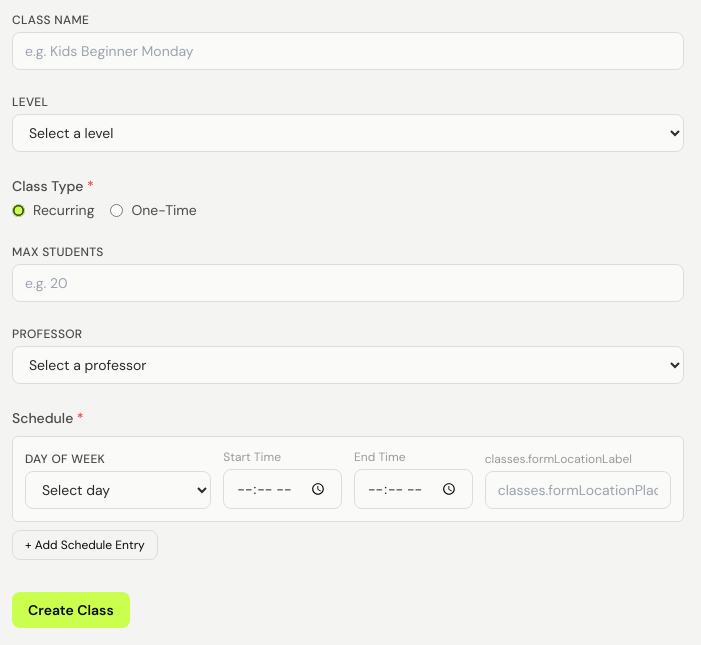
Test: ClassForm (create mode) › switches to date picker when type=ONE_TIME
Click the radio button labelled "One-Time".
click(117, 210)  # box [110,204,124,216]
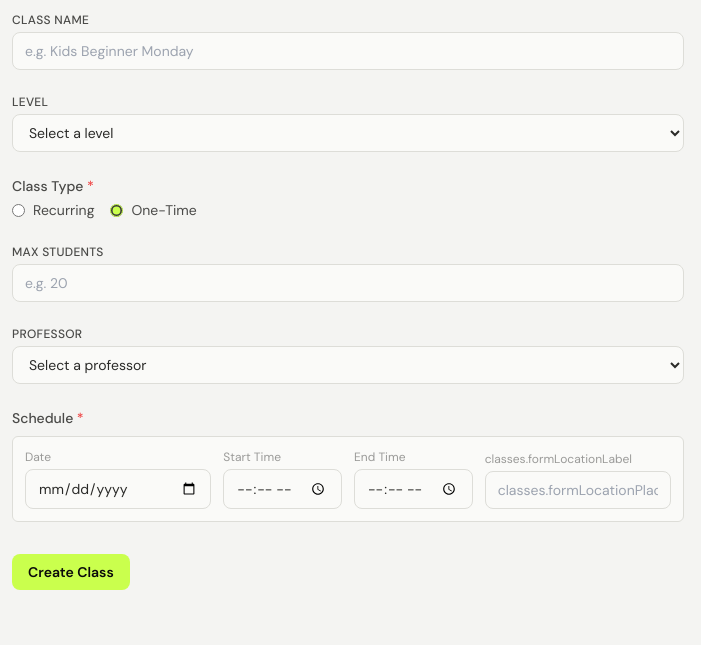
expect the text "Date" is shown: met, box [25,449,51,465]
expect the text "Day of Week" is gone: met
